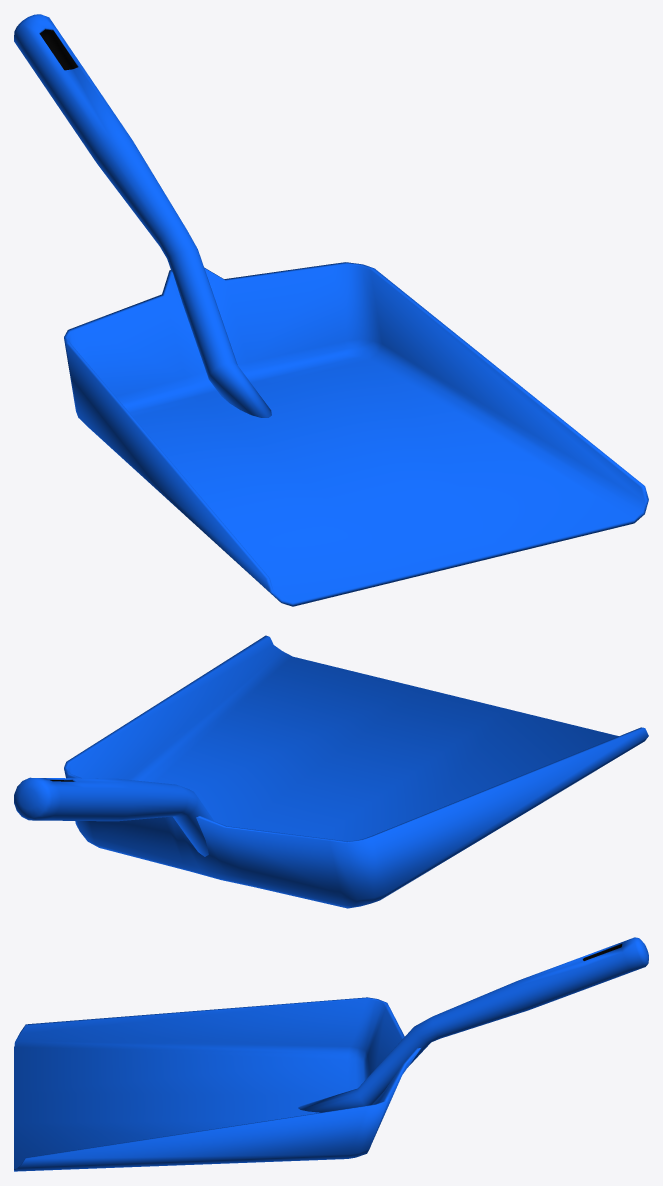
File: shovel.obj
The picture shows the model from 3 angles, top to bottom: view 1: azimuth 30°, elevation 25°; view 2: azimuth 150°, elevation 25°; view 3: azimuth 270°, elevation 25°; orthographic projection. The views are drawn at different scales.
Visible parts, largest first — view 1: Cylinder; view 2: Cylinder; view 3: Cylinder.
Boxes of the visible parts, x1=… form: Cylinder: x1=14, y1=14, x2=648, y2=606; Cylinder: x1=14, y1=635, x2=648, y2=908; Cylinder: x1=14, y1=937, x2=648, y2=1171.
Bounding box in the file's own units: 26.99 × 16.1 × 53.83.
